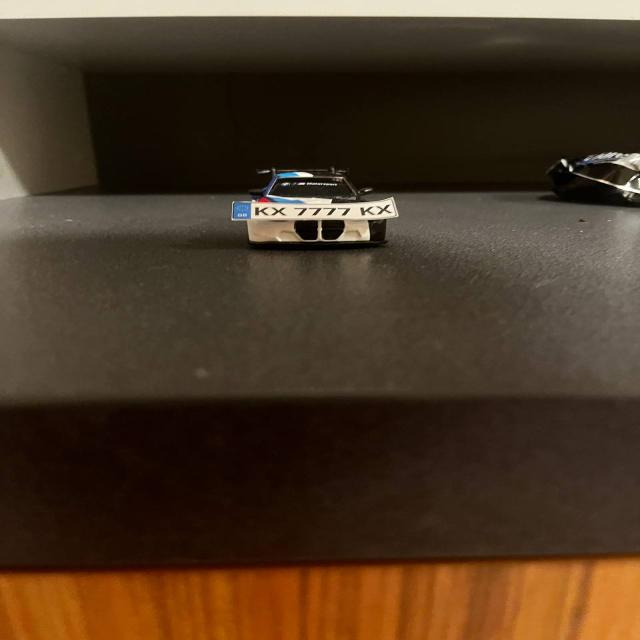KX 7777 KX: (230, 193, 406, 224)
